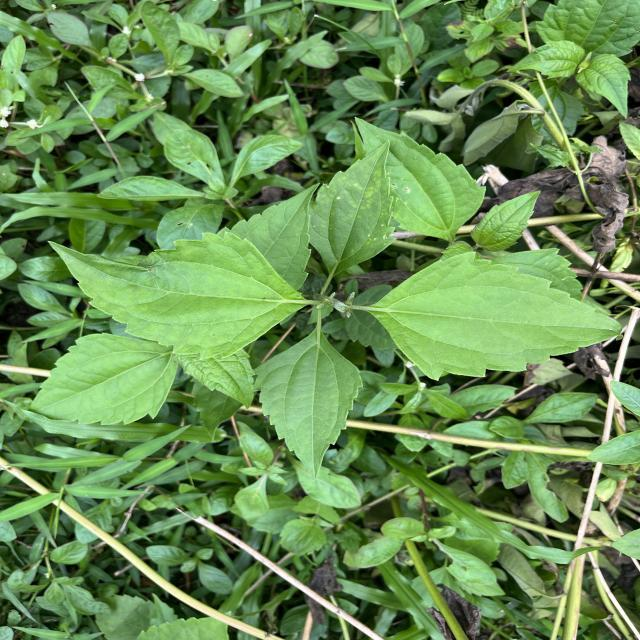Chromolaena odorata: (44, 226, 314, 364), (361, 249, 625, 383), (248, 327, 366, 485)
